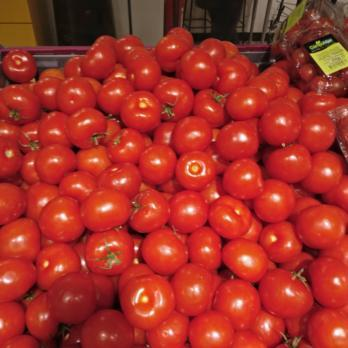Tomato: (2, 28, 348, 348)
